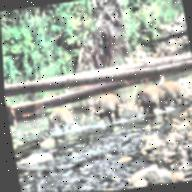boar: (125, 77, 172, 122), (36, 101, 82, 135), (90, 89, 128, 127), (158, 79, 186, 109)
